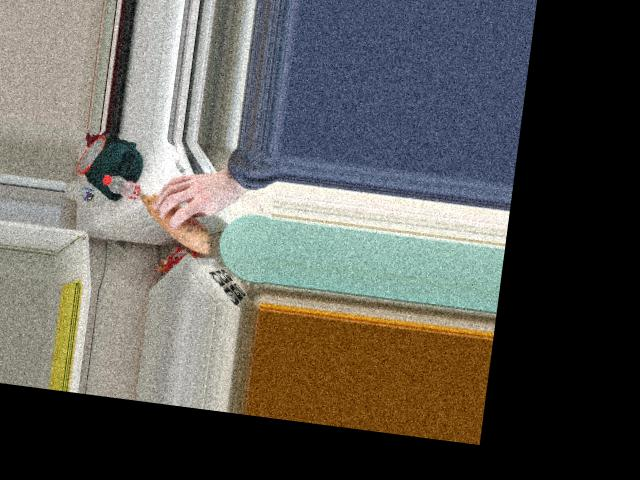sweet_potato: (136, 183, 206, 252)
